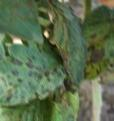Tomato leaf bacterial spot: (0, 48, 83, 119), (39, 0, 91, 94), (76, 6, 114, 80)
